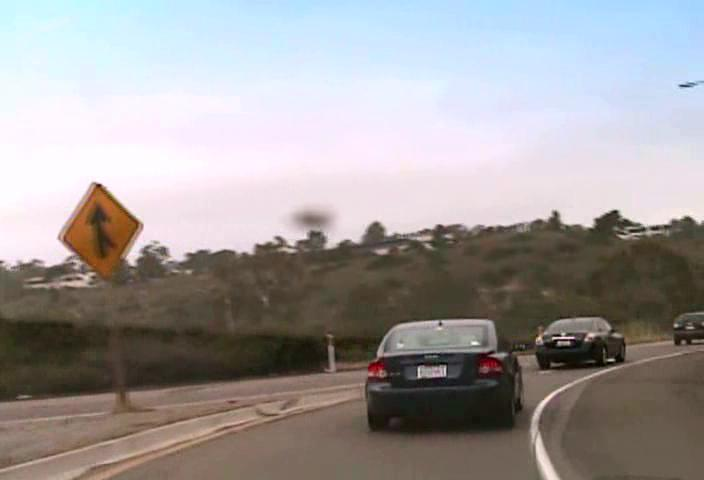merge: (56, 181, 143, 277)
